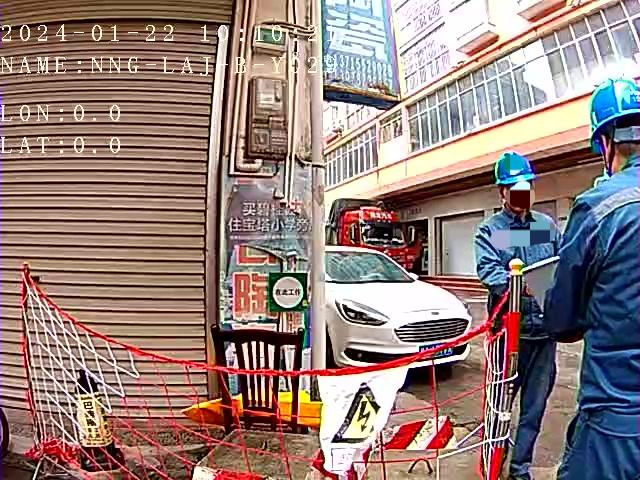halt: (591, 83, 640, 167), (498, 154, 540, 216)
